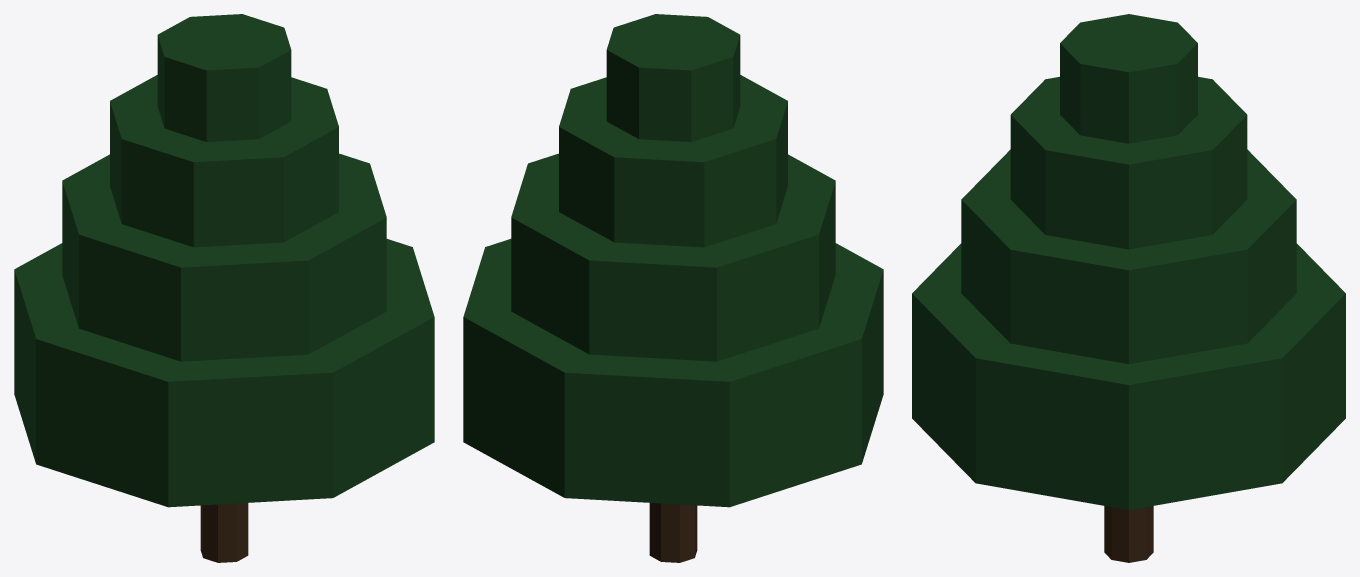
The model's file is pine_tree.obj.
3 views of the same model, side by side, from view 1: azimuth 30°, elevation 25°; view 2: azimuth 150°, elevation 25°; view 3: azimuth 270°, elevation 25° (orthographic).
Visible parts, largest first — view 1: Cylinder.001, Cylinder.002, Cylinder.003, Cylinder.004, Cylinder; view 2: Cylinder.001, Cylinder.002, Cylinder.003, Cylinder.004, Cylinder; view 3: Cylinder.001, Cylinder.002, Cylinder.003, Cylinder.004, Cylinder.
Part boxes in pixels (x1,y1,x2,y2): Cylinder.001: [14, 239, 434, 507]; Cylinder.002: [62, 153, 386, 361]; Cylinder.003: [110, 75, 338, 247]; Cylinder.004: [157, 14, 291, 141]; Cylinder: [200, 503, 248, 562]; Cylinder.001: [463, 239, 883, 507]; Cylinder.002: [511, 153, 835, 361]; Cylinder.003: [559, 75, 787, 247]; Cylinder.004: [606, 14, 740, 141]; Cylinder: [649, 503, 697, 562]; Cylinder.001: [912, 243, 1345, 509]; Cylinder.002: [961, 149, 1296, 363]; Cylinder.003: [1010, 76, 1247, 249]; Cylinder.004: [1060, 14, 1197, 143]; Cylinder: [1104, 506, 1153, 562].
Bounding box in the file's own units: 4.4 × 5.7 × 4.4.
